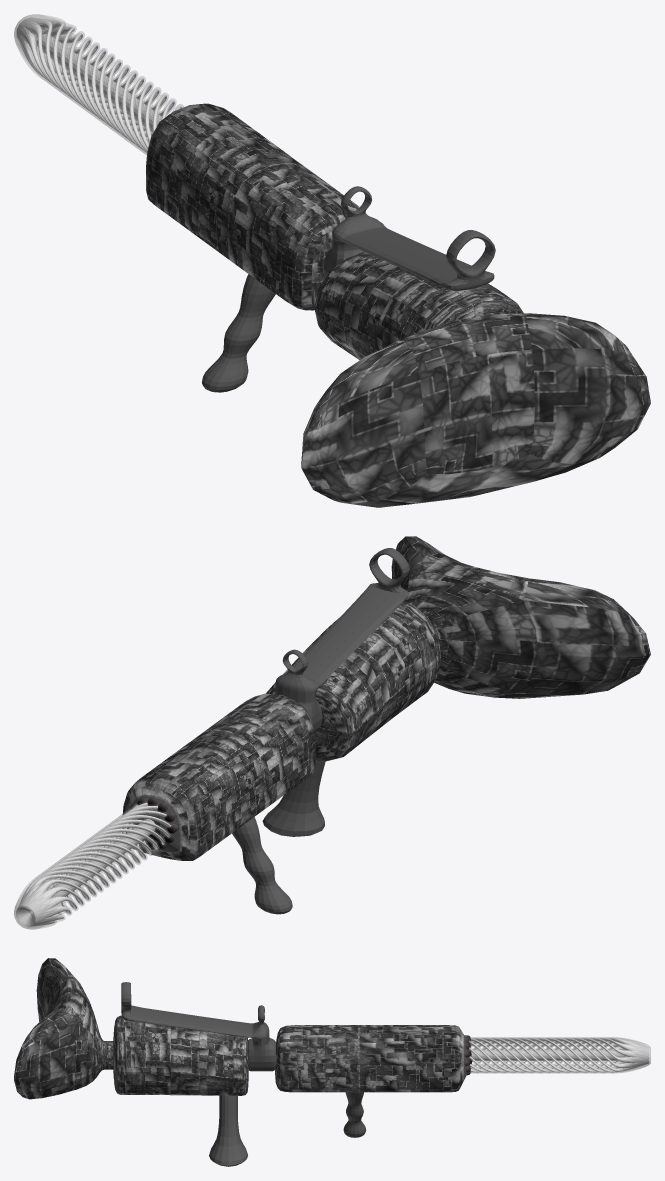
The model's file is submachine_gun.fbx.
The picture shows the model from 3 angles, top to bottom: view 1: azimuth 30°, elevation 25°; view 2: azimuth 150°, elevation 25°; view 3: azimuth 270°, elevation 25°; orthographic projection. The views are drawn at different scales.
Parts seen in each view (by area): view 1: Body3, Body1, Body2, Point, Hand, liteC, Sheath.001, Sheath, Sheath.002, Sheath.011, Sheath.010, Sheath.003 (+7 smaller); view 2: Body3, Body1, Body2, Point, Hand, liteC, Sheath, Sheath.001, Sheath.011, Sheath.002, Sheath.010, Sheath.003 (+9 smaller); view 3: Body1, Body2, Body3, Point, Hand, liteC, Sheath.009, Sheath.010, Sheath.008, Sheath.011, Sheath.007, Cable.011 (+16 smaller).
Boxes of the visible parts, left/top/right/bottom form: Body3: left=301, top=313, right=650, bottom=507; Body1: left=146, top=103, right=367, bottom=310; Body2: left=314, top=251, right=523, bottom=359; Point: left=323, top=186, right=495, bottom=290; Hand: left=202, top=274, right=275, bottom=392; liteC: left=36, top=34, right=161, bottom=132; Sheath.001: left=17, top=16, right=146, bottom=154; Sheath: left=18, top=14, right=153, bottom=150; Sheath.002: left=14, top=20, right=146, bottom=155; Sheath.011: left=26, top=14, right=160, bottom=145; Sheath.010: left=36, top=15, right=168, bottom=134; Sheath.003: left=14, top=22, right=143, bottom=152; Body3: left=391, top=536, right=650, bottom=698; Body1: left=122, top=693, right=315, bottom=860; Body2: left=266, top=601, right=441, bottom=761; Point: left=275, top=548, right=409, bottom=732; Hand: left=232, top=761, right=325, bottom=914; liteC: left=51, top=819, right=155, bottom=897; Sheath: left=17, top=823, right=166, bottom=925; Sheath.001: left=19, top=827, right=159, bottom=924; Sheath.011: left=15, top=818, right=171, bottom=925; Sheath.002: left=17, top=832, right=153, bottom=921; Sheath.010: left=14, top=813, right=172, bottom=924; Sheath.003: left=16, top=836, right=147, bottom=926; Body1: left=275, top=1025, right=472, bottom=1092; Body2: left=113, top=1015, right=248, bottom=1095; Body3: left=14, top=958, right=113, bottom=1099; Point: left=121, top=982, right=275, bottom=1071; Hand: left=209, top=1092, right=366, bottom=1166; liteC: left=471, top=1050, right=626, bottom=1060; Sheath.009: left=473, top=1037, right=650, bottom=1073; Sheath.010: left=471, top=1037, right=650, bottom=1073; Sheath.008: left=470, top=1037, right=650, bottom=1073; Sheath.011: left=473, top=1037, right=650, bottom=1073; Sheath.007: left=468, top=1037, right=650, bottom=1073; Cable.011: left=470, top=1038, right=648, bottom=1072.
Size of the model in its own units: 0.8073 by 0.669 by 2.29.
